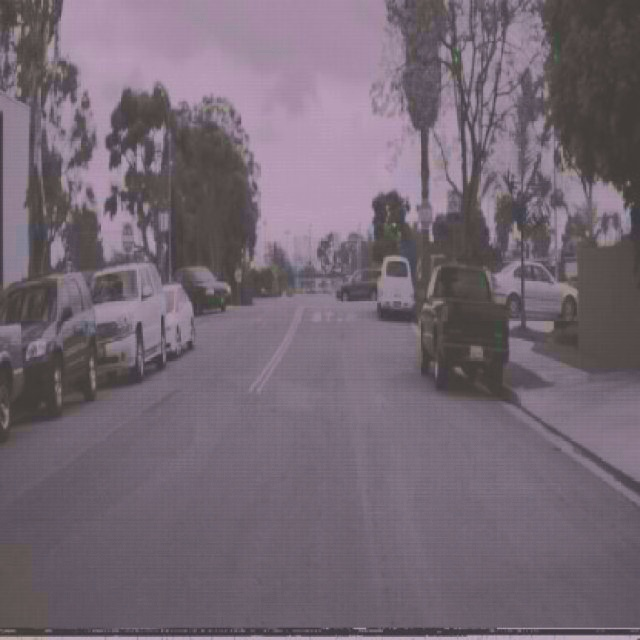doNotEnter: (122, 220, 134, 253)
stop: (418, 197, 434, 230)
